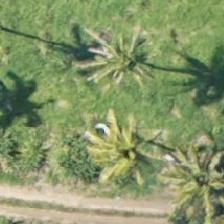coconut_tree: (70, 110, 160, 200), (72, 18, 162, 108), (160, 134, 223, 223)
